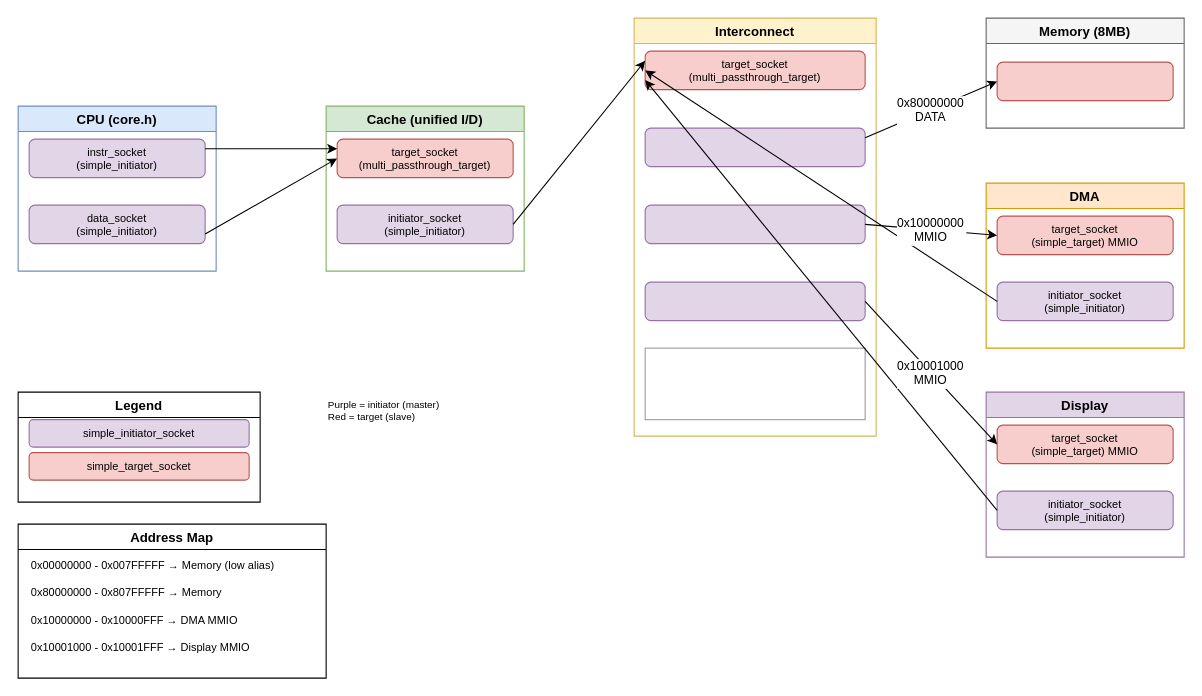
Some shapes in this 1202 by 696 pixel diagram are drawn without their labels. Here are the shapes that lost their labels. From the top down, the centre of each, then its label:
pixel 1084 81: socket (simple_target)
pixel 754 147: mem_socket (simple_initiator)
pixel 754 224: dma_mmio_socket (simple_initiator)
pixel 754 301: display_mmio_socket (simple_initiator)
pixel 754 383: b_transport: iterate regions[] forward by address
